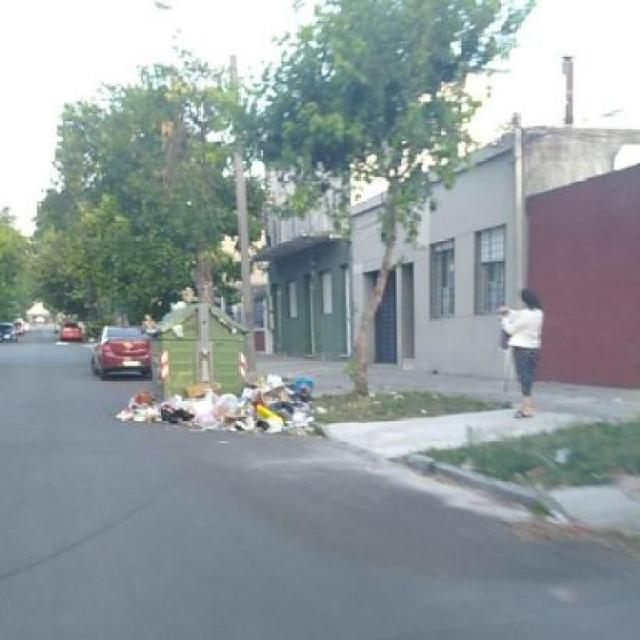garbage: (122, 372, 340, 446), (148, 305, 249, 352)
